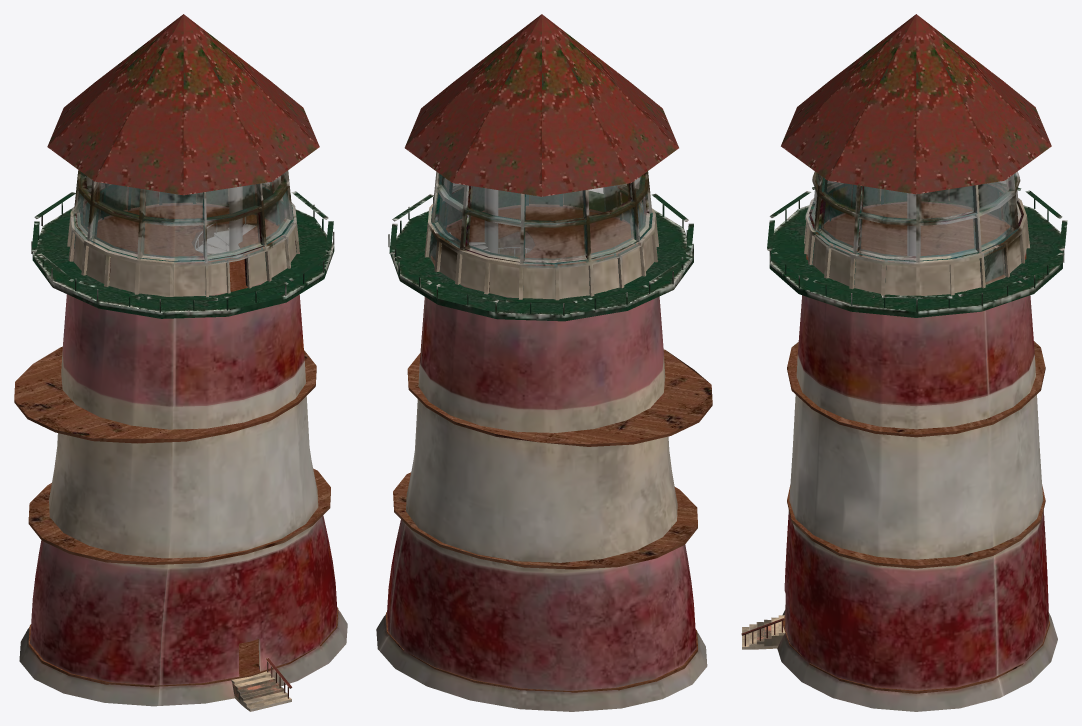
File: lighthouse-redwhite.glb
The picture shows the model from 3 angles, left to right: view 1: azimuth 30°, elevation 25°; view 2: azimuth 150°, elevation 25°; view 3: azimuth 270°, elevation 25°; orthographic projection.
Visible parts, largest first — view 1: defaultMaterial (×7); view 2: defaultMaterial (×7); view 3: defaultMaterial (×7).
Boxes of the visible parts, x1,y1,x2,y2 form: defaultMaterial (×7): [14, 14, 347, 711]; defaultMaterial (×7): [376, 14, 712, 711]; defaultMaterial (×7): [741, 14, 1067, 711].
Bounding box in the file's own units: 25.28 × 49.71 × 23.49.
Materials: 10 (9 with a texture image).
